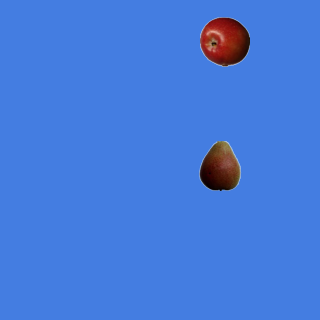Apple Braeburn: (199, 16, 249, 66)
Pear Forelle: (194, 140, 244, 190)
